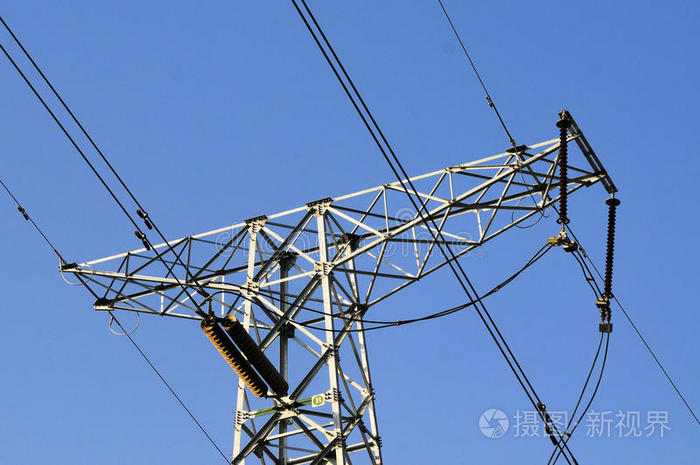insulator: (204, 319, 291, 394), (556, 127, 573, 223), (603, 206, 619, 295)
